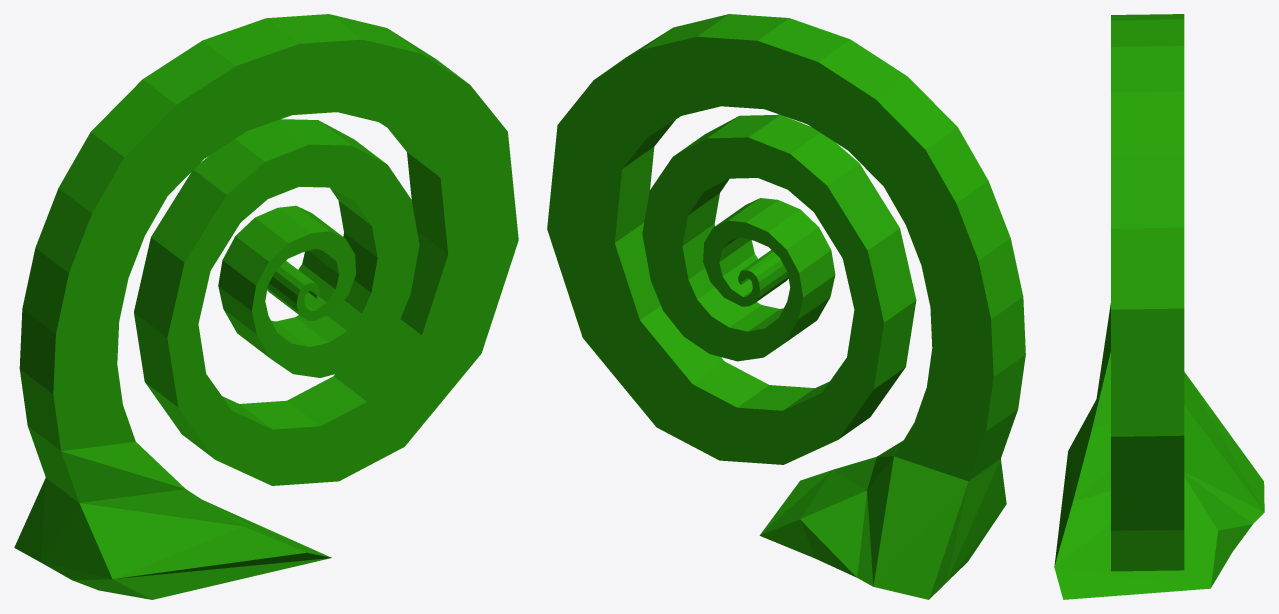
Rendered from Vegetation_Verdant_Grass_Topiary_Bush_Shrub_Swirl_02.FBX.
3 renders of one model, left to right at view 1: azimuth 30°, elevation 25°; view 2: azimuth 150°, elevation 25°; view 3: azimuth 270°, elevation 25°, orthographic. The views are drawn at different scales.
Visible parts, largest first — view 1: Vegetation_Verdant_Grass_Topiary_Bush_Shrub_Swirl_02; view 2: Vegetation_Verdant_Grass_Topiary_Bush_Shrub_Swirl_02; view 3: Vegetation_Verdant_Grass_Topiary_Bush_Shrub_Swirl_02.
Boxes of the visible parts, bbox=[...] form: Vegetation_Verdant_Grass_Topiary_Bush_Shrub_Swirl_02: bbox=[14, 14, 518, 599]; Vegetation_Verdant_Grass_Topiary_Bush_Shrub_Swirl_02: bbox=[547, 14, 1025, 599]; Vegetation_Verdant_Grass_Topiary_Bush_Shrub_Swirl_02: bbox=[1054, 14, 1264, 599].
Bounding box in the file's own units: 1181 × 1222 × 423.
